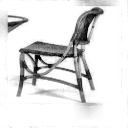chair_success: (17, 6, 107, 103)
